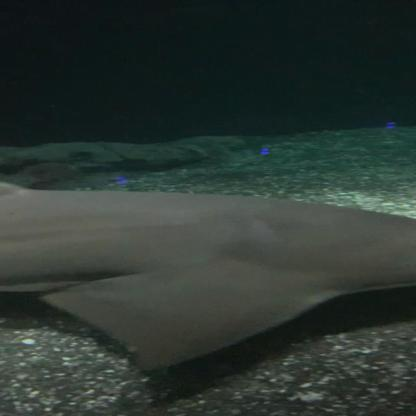shark: (0, 175, 415, 379)
